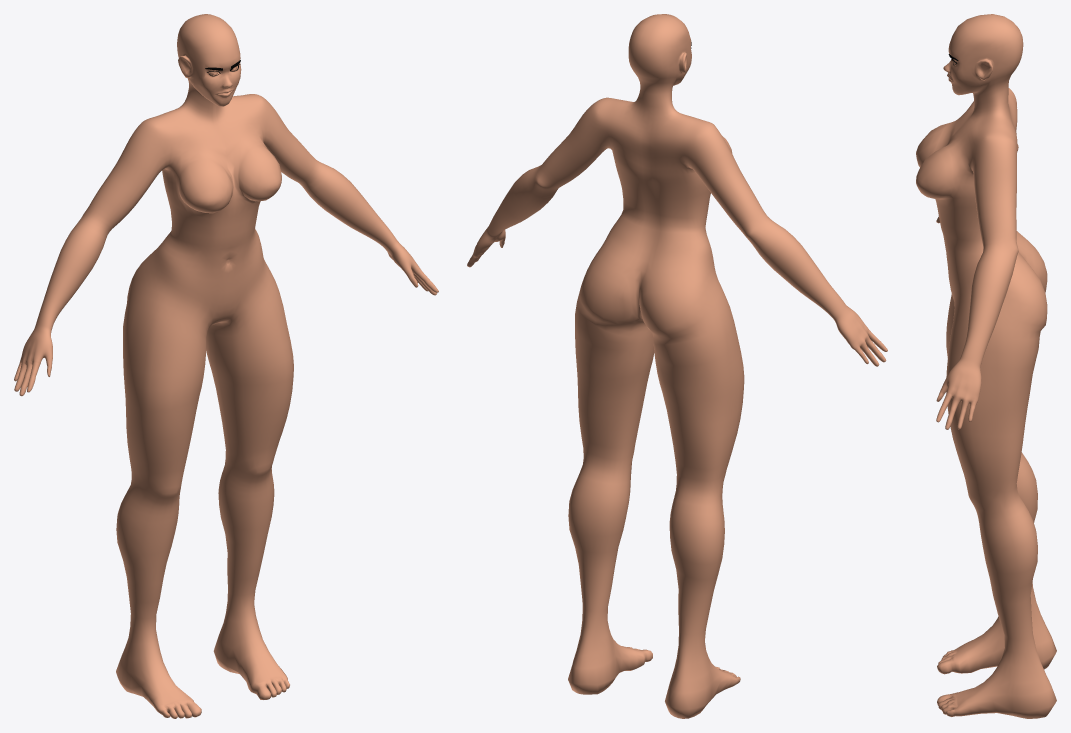
File: female_base.fbx
3 views of the same model, side by side, from view 1: azimuth 30°, elevation 25°; view 2: azimuth 150°, elevation 25°; view 3: azimuth 270°, elevation 25° (orthographic).
Visible parts, largest first — view 1: female_base_MESH; view 2: female_base_MESH; view 3: female_base_MESH.
Boxes of the visible parts, x1,y1,x2,y2 form: female_base_MESH: (14,14,438,718); female_base_MESH: (467,14,887,718); female_base_MESH: (916,14,1056,718).
Bounding box in the file's own units: 110 × 169 × 32.1.
